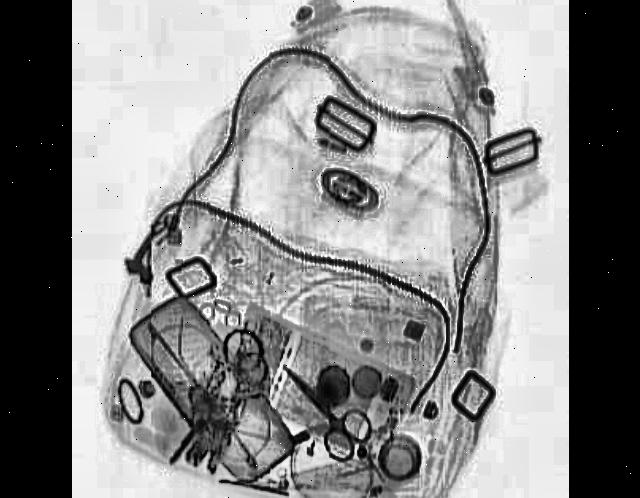Scissors: (267, 338, 373, 472)
